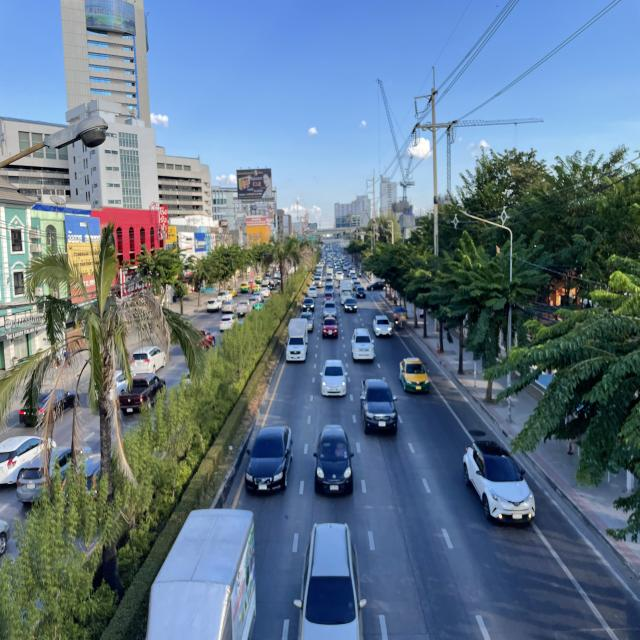car: (297, 520, 366, 640), (462, 438, 540, 528), (398, 357, 430, 394), (318, 359, 348, 397), (350, 327, 375, 363), (373, 313, 393, 340), (322, 317, 339, 339)
truck: (144, 505, 258, 640), (285, 318, 309, 365)
